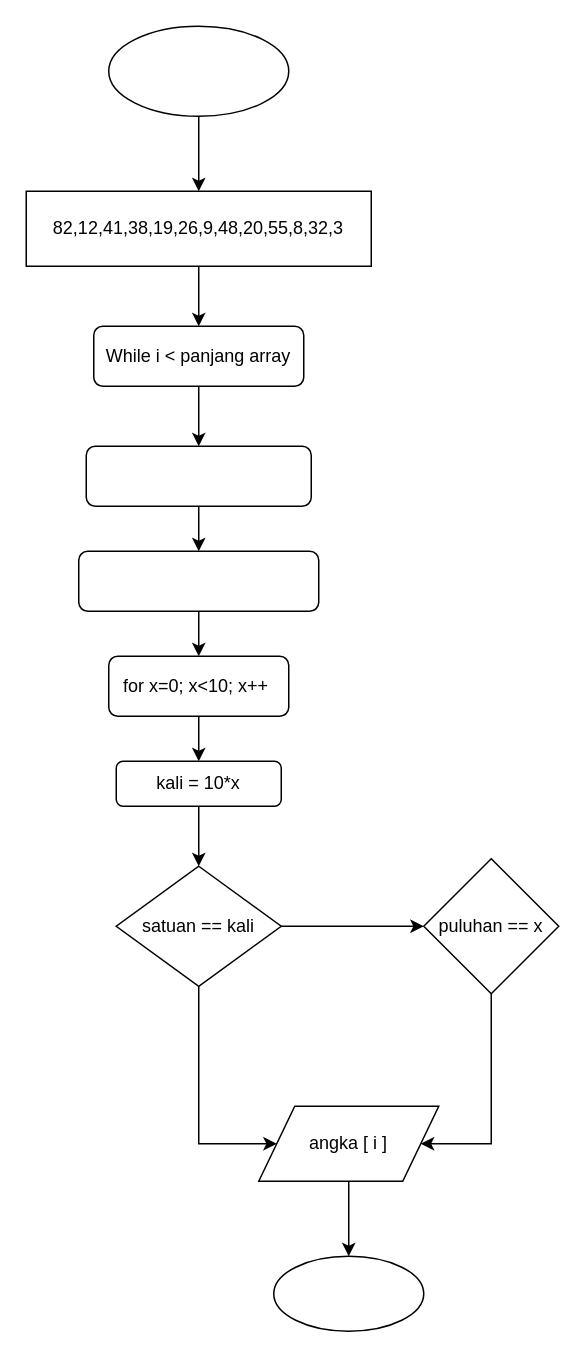
This 585x1358 diagram has some shape labels left out. The shapes that lost their labels are listed below. From the top down, each one's box as (x1, y1, x2, y2) in pixels, then its label:
(107, 25, 289, 116): Mulai
(85, 445, 311, 506): satuan = angka [ i ] - 2
(77, 550, 319, 611): puluhan = angka [ i ] - 20
(272, 1255, 424, 1331): Selesai
